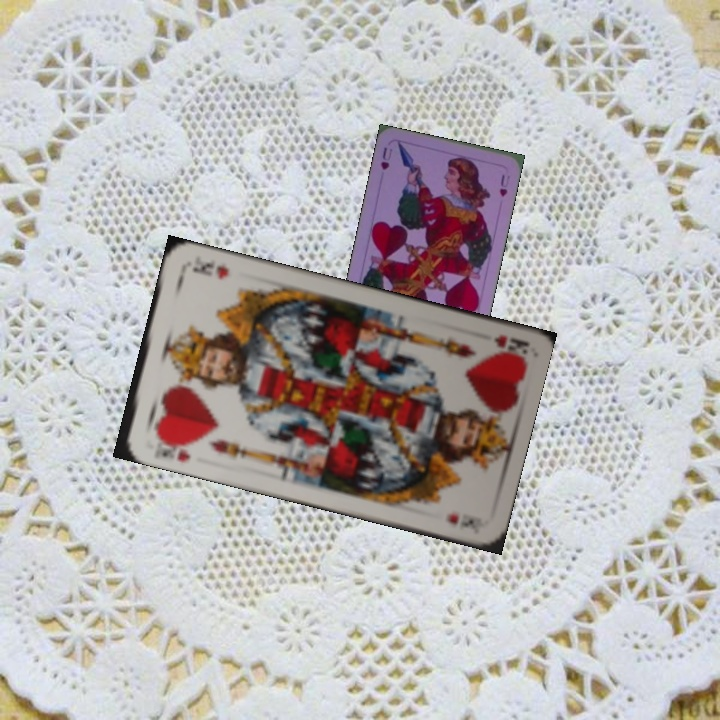HK: (152, 431, 196, 465), (489, 331, 528, 359)
HU: (377, 143, 395, 173)
